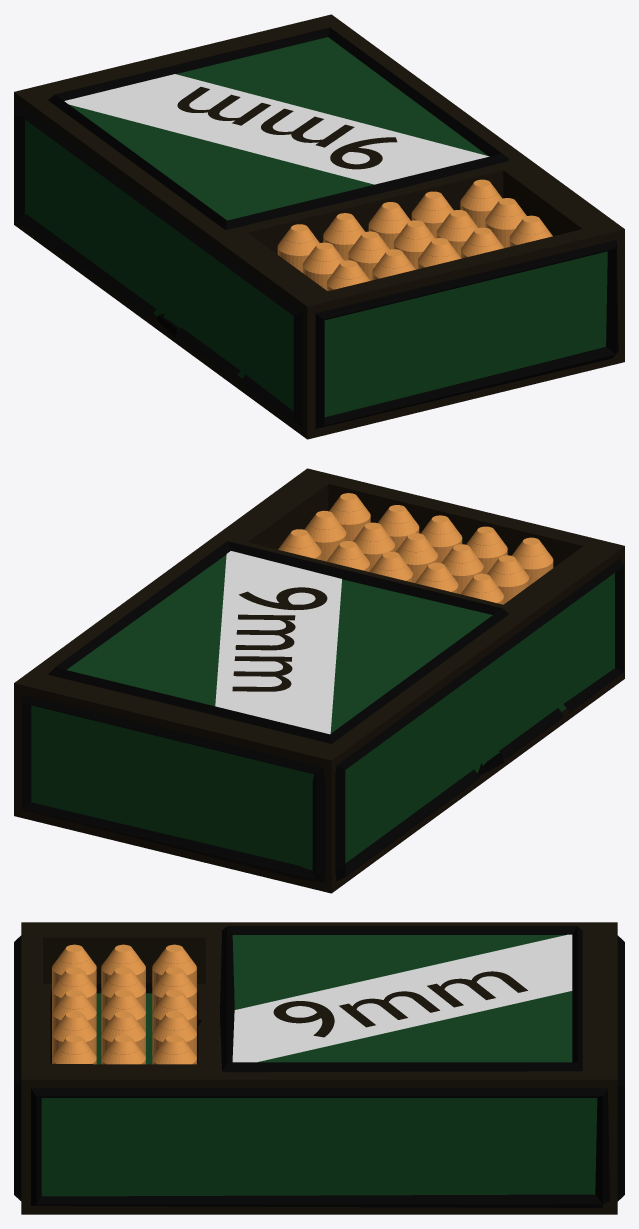
Rendered from 9mmAmmo.fbx.
3 renders of one model, top to bottom at view 1: azimuth 30°, elevation 25°; view 2: azimuth 150°, elevation 25°; view 3: azimuth 270°, elevation 25°, orthographic.
Visible parts, largest first — view 1: 9mm.002; view 2: 9mm.002; view 3: 9mm.002.
Part boxes in pixels (x1,y1,x2,y2): 9mm.002: (14,14,624,439); 9mm.002: (14,468,624,893); 9mm.002: (14,922,624,1214).
Bounding box in the file's own units: 26 × 10.54 × 41.
